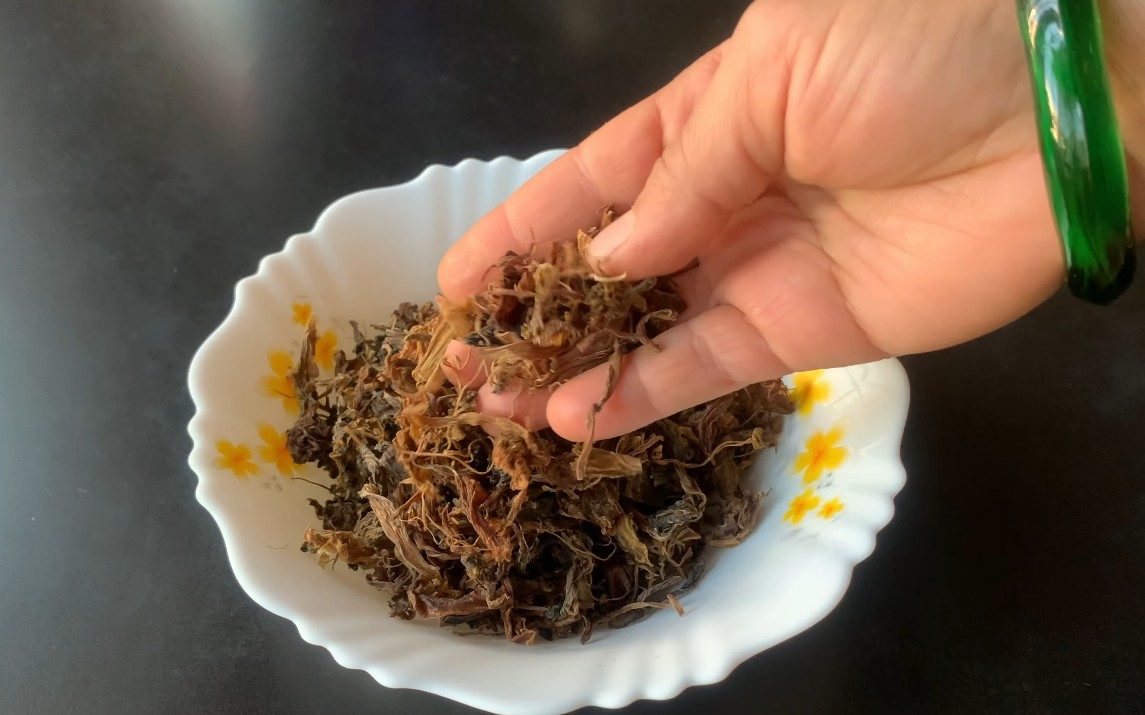gundruk: (320, 298, 725, 612)
